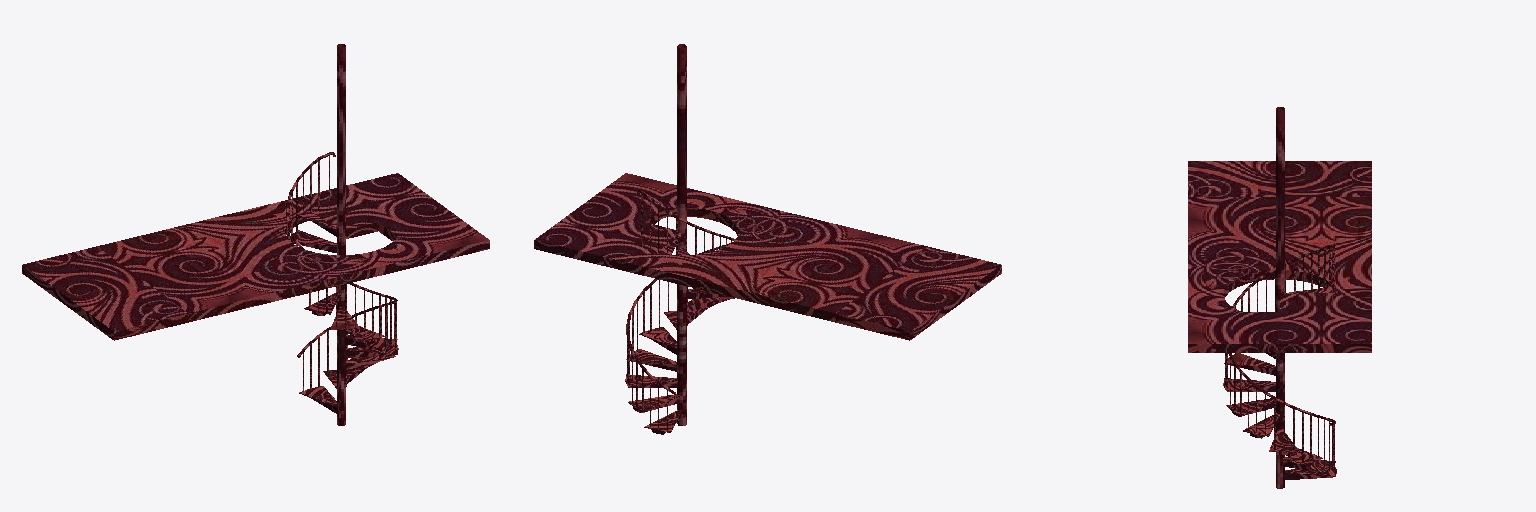
3 views of the same model, side by side, from view 1: azimuth 30°, elevation 25°; view 2: azimuth 150°, elevation 25°; view 3: azimuth 270°, elevation 25° (orthographic).
Visible parts, largest first — view 1: group4 pPlane13, polySurface159 group4; view 2: group4 pPlane13, polySurface159 group4; view 3: group4 pPlane13, polySurface159 group4.
Boxes of the visible parts, x1,y1,x2,y2 form: group4 pPlane13: [22, 173, 489, 340]; polySurface159 group4: [286, 44, 398, 425]; group4 pPlane13: [534, 173, 1001, 340]; polySurface159 group4: [625, 44, 734, 434]; group4 pPlane13: [1188, 161, 1371, 352]; polySurface159 group4: [1223, 107, 1336, 488].
Bounding box in the file's own units: 6.63 × 6.39 × 2.8.
Materials: 1 (1 with a texture image).